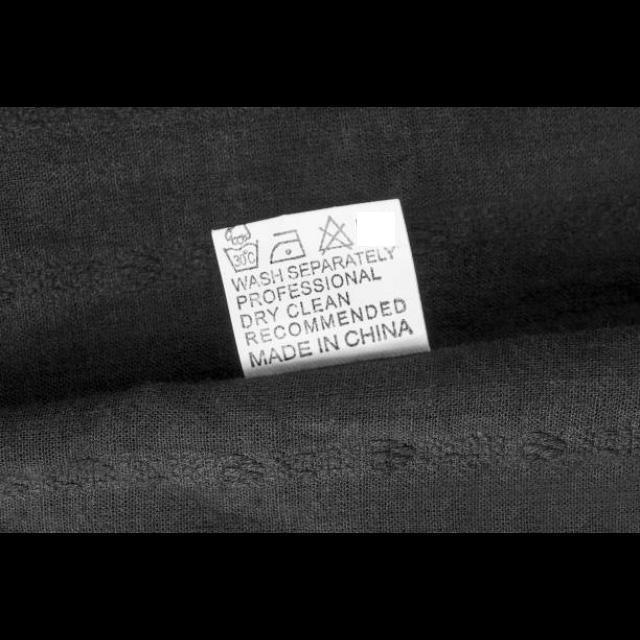30C: (222, 238, 260, 274)
DN_bleach: (316, 214, 356, 256)
iron_low: (268, 227, 308, 265)
